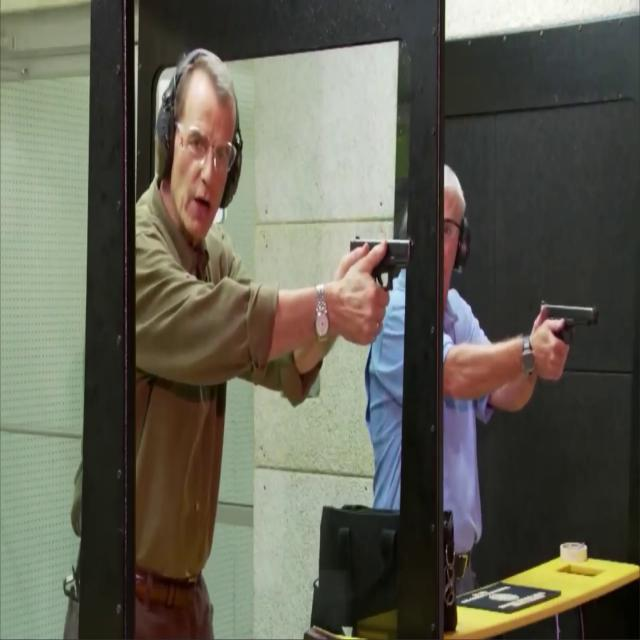Gun: (348, 236, 414, 304), (540, 302, 598, 364)
